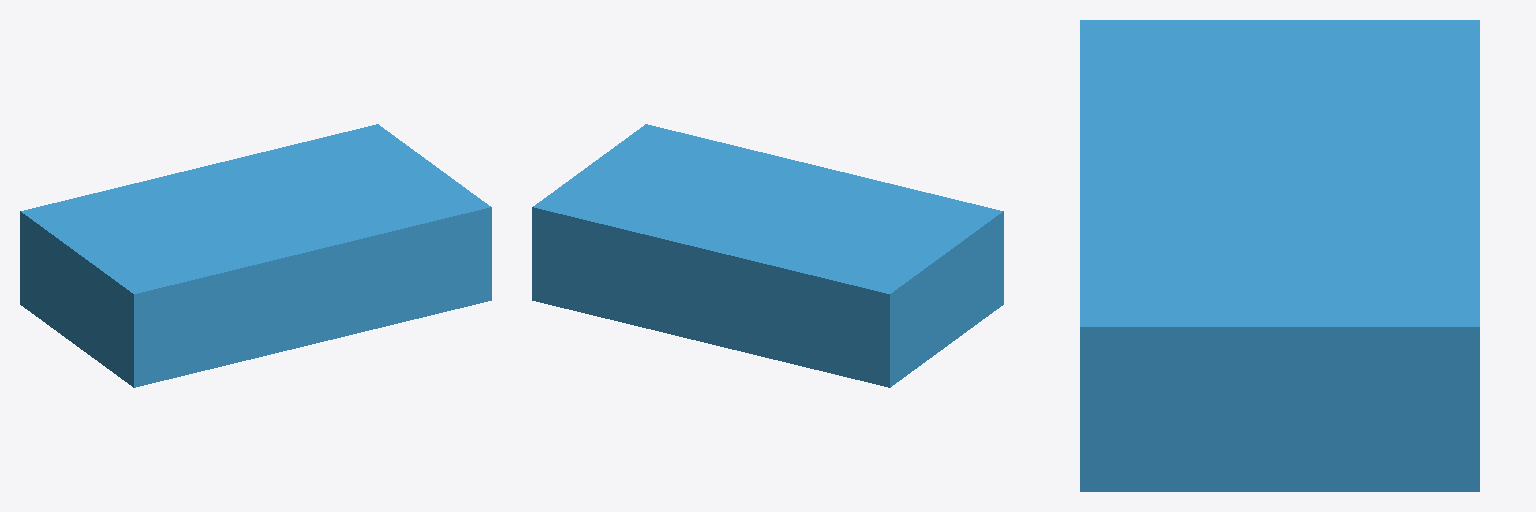
URDF robot description (skid_steer_4wd):
<?xml version="1.0"?>
<!--
  Example URDF of a 4-wheel skid-steer robot, with the REP-105 frames:
  base_footprint on the ground, and base_link above it (at the wheel axles).
  Its <ros2_control> block names another hardware plugin (as for Gazebo, a
  mock or real hardware), but MVSim binds its joints to the simulated ones by
  name.

  The MVSim vehicle definition is generated from it with mvsim-urdf2xml, see
  ../urdf2xml/skid_steer_4wd_mapping.yaml
  Used by demo_ros2_control.launch.py with vehicle:=skid_steer_4wd
-->
<robot name="skid_steer_4wd">
  <link name="base_footprint"/>

  <joint name="base_footprint_joint" type="fixed">
    <parent link="base_footprint"/>
    <child link="base_link"/>
    <origin xyz="0 0 0.15" rpy="0 0 0"/>
  </joint>

  <link name="base_link">
    <visual>
      <origin xyz="0 0 0.1"/>
      <geometry><box size="0.8 0.44 0.2"/></geometry>
    </visual>
    <collision>
      <origin xyz="0 0 0.1"/>
      <geometry><box size="0.8 0.44 0.2"/></geometry>
    </collision>
    <inertial>
      <origin xyz="0 0 0.1"/>
      <mass value="40.0"/>
      <inertia ixx="0.78" ixy="0" ixz="0" iyy="2.27" iyz="0" izz="2.78"/>
    </inertial>
  </link>

  <!-- Wheels: continuous joints about +Y -->
  <link name="front_left_wheel_link">
    <collision>
      <origin rpy="1.5708 0 0"/>
      <geometry><cylinder radius="0.15" length="0.1"/></geometry>
    </collision>
    <inertial><mass value="3.0"/><inertia ixx="0.02" ixy="0" ixz="0" iyy="0.034" iyz="0" izz="0.02"/></inertial>
  </link>
  <joint name="front_left_wheel_joint" type="continuous">
    <parent link="base_link"/><child link="front_left_wheel_link"/>
    <origin xyz="0.25 0.3 0" rpy="0 0 0"/>
    <axis xyz="0 1 0"/>
  </joint>

  <link name="front_right_wheel_link">
    <collision>
      <origin rpy="1.5708 0 0"/>
      <geometry><cylinder radius="0.15" length="0.1"/></geometry>
    </collision>
    <inertial><mass value="3.0"/><inertia ixx="0.02" ixy="0" ixz="0" iyy="0.034" iyz="0" izz="0.02"/></inertial>
  </link>
  <joint name="front_right_wheel_joint" type="continuous">
    <parent link="base_link"/><child link="front_right_wheel_link"/>
    <origin xyz="0.25 -0.3 0" rpy="0 0 0"/>
    <axis xyz="0 1 0"/>
  </joint>

  <link name="rear_left_wheel_link">
    <collision>
      <origin rpy="1.5708 0 0"/>
      <geometry><cylinder radius="0.15" length="0.1"/></geometry>
    </collision>
    <inertial><mass value="3.0"/><inertia ixx="0.02" ixy="0" ixz="0" iyy="0.034" iyz="0" izz="0.02"/></inertial>
  </link>
  <joint name="rear_left_wheel_joint" type="continuous">
    <parent link="base_link"/><child link="rear_left_wheel_link"/>
    <origin xyz="-0.25 0.3 0" rpy="0 0 0"/>
    <axis xyz="0 1 0"/>
  </joint>

  <link name="rear_right_wheel_link">
    <collision>
      <origin rpy="1.5708 0 0"/>
      <geometry><cylinder radius="0.15" length="0.1"/></geometry>
    </collision>
    <inertial><mass value="3.0"/><inertia ixx="0.02" ixy="0" ixz="0" iyy="0.034" iyz="0" izz="0.02"/></inertial>
  </link>
  <joint name="rear_right_wheel_joint" type="continuous">
    <parent link="base_link"/><child link="rear_right_wheel_link"/>
    <origin xyz="-0.25 -0.3 0" rpy="0 0 0"/>
    <axis xyz="0 1 0"/>
  </joint>

  <!-- 2D lidar -->
  <link name="laser"/>
  <joint name="laser_joint" type="fixed">
    <parent link="base_link"/><child link="laser"/>
    <origin xyz="0.3 0 0.25" rpy="0 0 0"/>
  </joint>

  <ros2_control name="MockSystem" type="system">
    <hardware>
      <plugin>mock_components/GenericSystem</plugin>
    </hardware>
    <joint name="front_left_wheel_joint">
      <command_interface name="velocity"/>
      <state_interface name="position"/>
      <state_interface name="velocity"/>
    </joint>
    <joint name="front_right_wheel_joint">
      <command_interface name="velocity"/>
      <state_interface name="position"/>
      <state_interface name="velocity"/>
    </joint>
    <joint name="rear_left_wheel_joint">
      <command_interface name="velocity"/>
      <state_interface name="position"/>
      <state_interface name="velocity"/>
    </joint>
    <joint name="rear_right_wheel_joint">
      <command_interface name="velocity"/>
      <state_interface name="position"/>
      <state_interface name="velocity"/>
    </joint>
  </ros2_control>
</robot>

--- Render facts (derived) ---
3 views of the same robot in one strip: view 1: azimuth 30°, elevation 25°; view 2: azimuth 150°, elevation 25°; view 3: azimuth 270°, elevation 25° (orthographic).
Model skid_steer_4wd with 7 links and 6 joints (4 continuous, 2 fixed), rooted at base_footprint, posed every joint at zero.
Links seen in each view (by area): view 1: base_link; view 2: base_link; view 3: base_link.
Boxes of the visible links, x1=… form: base_link: x1=20, y1=124, x2=491, y2=387; base_link: x1=532, y1=124, x2=1003, y2=387; base_link: x1=1080, y1=20, x2=1479, y2=491.
Size in the robot's own frame: 0.8 by 0.44 by 0.2 metres.
Geometry: primitives only (box / cylinder / sphere), no mesh files.
